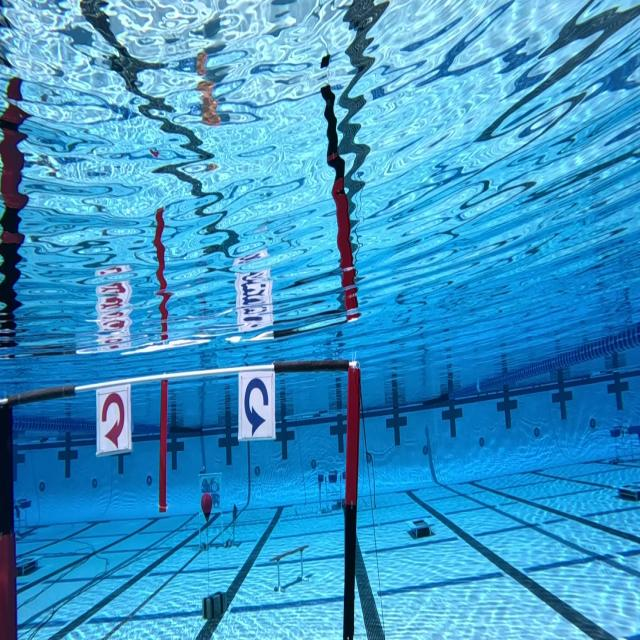blue_side: (236, 367, 277, 446)
red_side: (92, 381, 134, 450)
